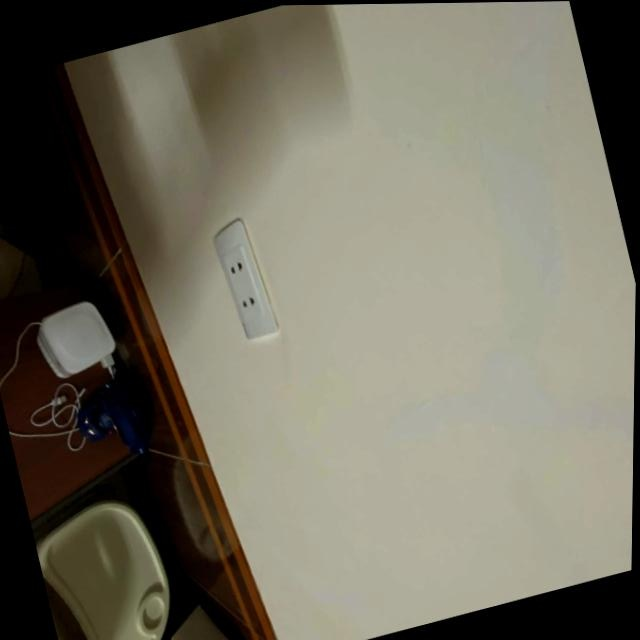outlet: (209, 214, 283, 344)
